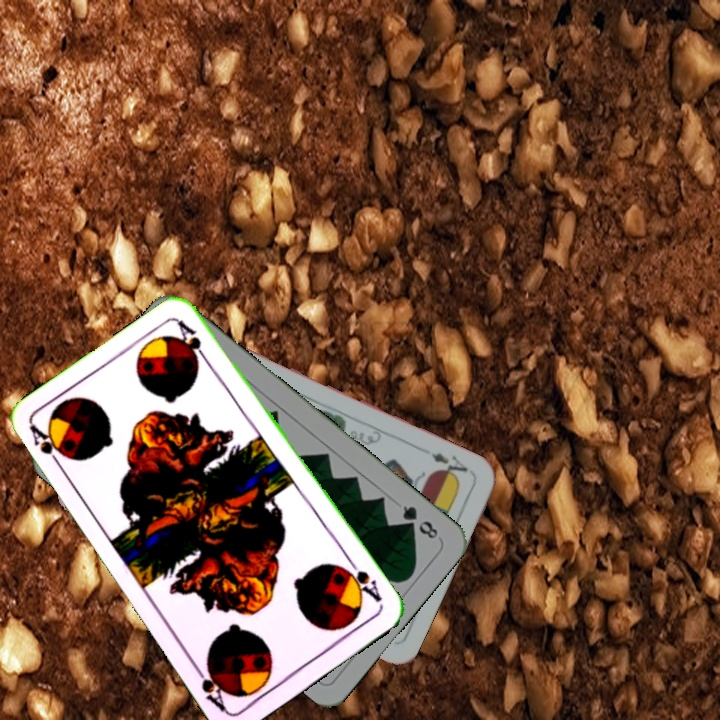EA: (427, 448, 470, 483)
G8: (398, 501, 442, 543)
SA: (337, 555, 385, 605), (25, 421, 67, 474)
